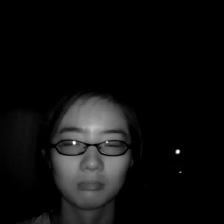normal: (37, 90, 143, 210)
